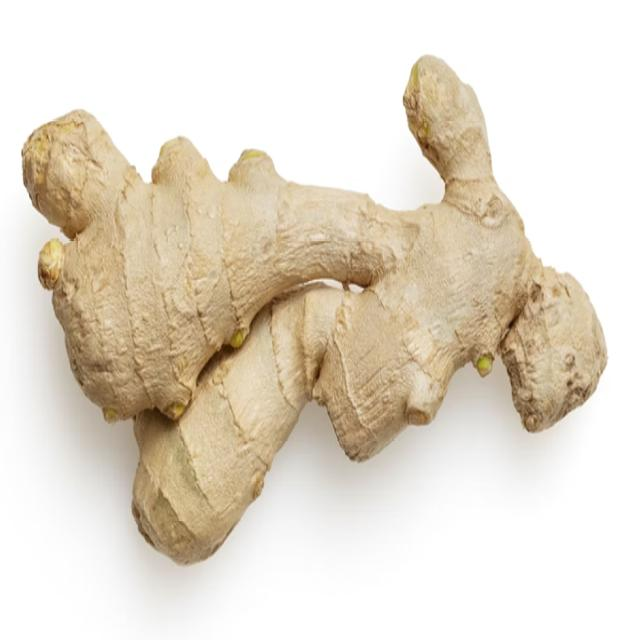ginger-root: (13, 54, 612, 552)
